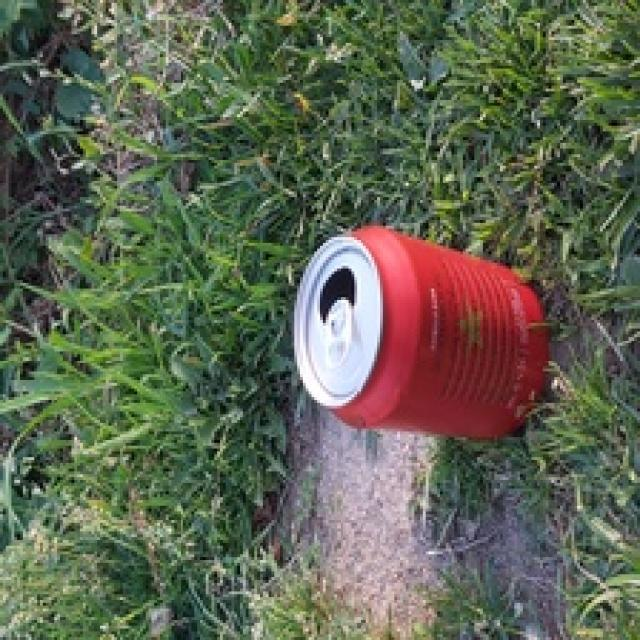recyclable: (292, 224, 544, 438)
